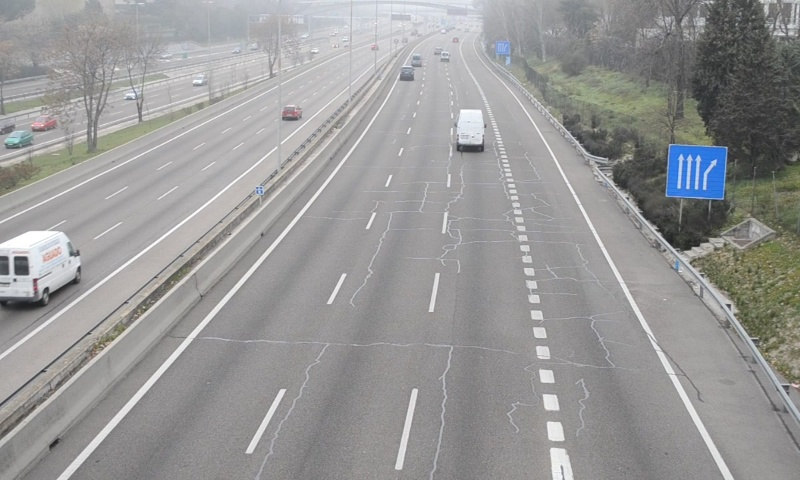car: (400, 66, 414, 82)
van: (454, 108, 486, 148)
